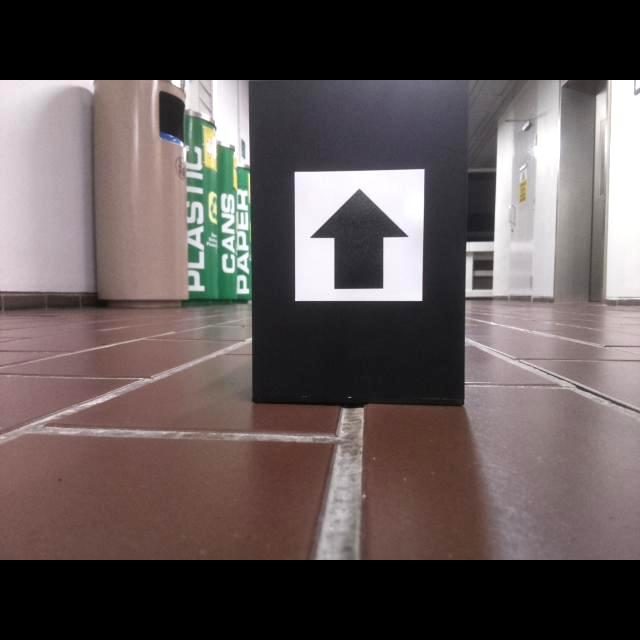UP: (308, 187, 409, 290)
